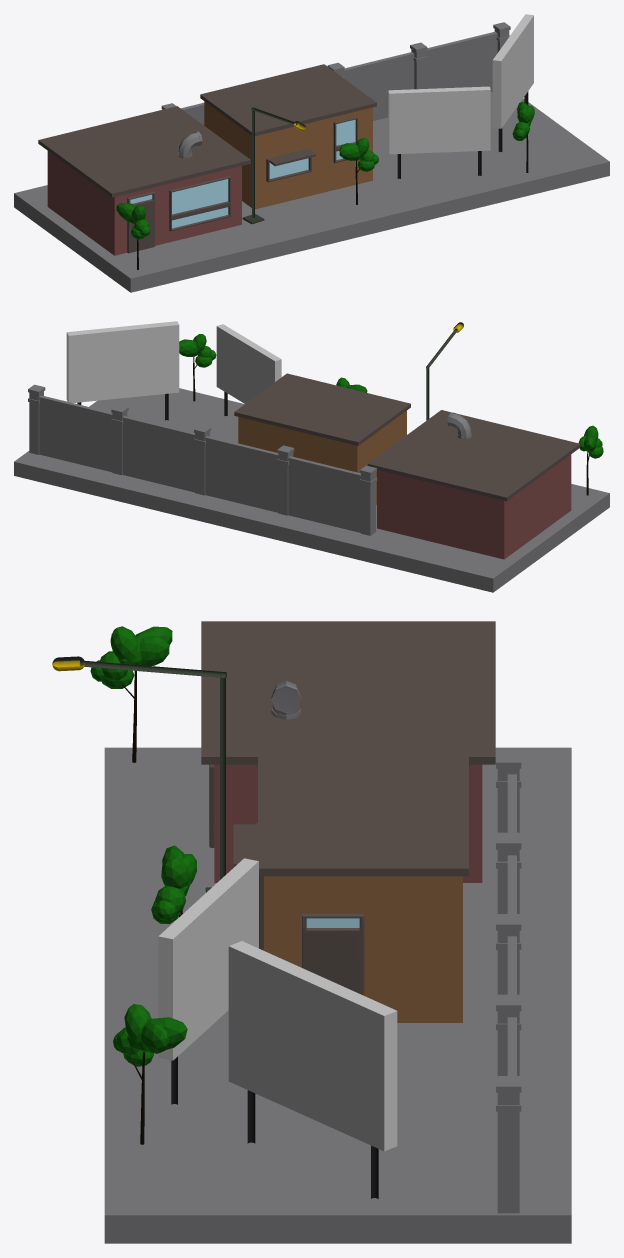
Rendered from Block_13.fbx.
The picture shows the model from 3 angles, top to bottom: view 1: azimuth 30°, elevation 25°; view 2: azimuth 150°, elevation 25°; view 3: azimuth 270°, elevation 25°; orthographic projection. The views are drawn at different scales.
Visible parts, largest first — view 1: polySurface446, polySurface448, polySurface443, Billboard1, Billboard2, polySurface458, polySurface457, polySurface449, polySurface442, polySurface460, Tree1__1_, Tree1 (+5 smaller); view 2: polySurface448, polySurface446, polySurface443, Billboard2, polySurface452, polySurface458, polySurface453, polySurface449, Billboard1, polySurface454, Tree1__2_, polySurface459 (+6 smaller); view 3: polySurface446, polySurface443, polySurface448, Billboard2, Billboard1, polySurface445, Tree1, polySurface456, Tree1__2_, StreetLight, Tree1__1_, polySurface459 (+5 smaller).
Boxes of the visible parts, x1,y1,x2,y2 form: polySurface446: (14,92,609,292); polySurface448: (38,106,250,255); polySurface443: (200,64,376,209); Billboard1: (388,86,490,178); Billboard2: (492,14,533,151); polySurface458: (426,31,497,92); polySurface457: (169,175,230,231); polySurface449: (343,52,414,120); polySurface442: (266,148,315,182); polySurface460: (127,191,154,253); Tree1__1_: (339,138,378,204); Tree1: (116,203,150,269); polySurface448: (367,410,580,559); polySurface446: (14,388,609,592); polySurface443: (234,373,410,504); Billboard2: (66,321,179,420); polySurface452: (205,436,278,512); polySurface458: (39,395,112,472); polySurface453: (288,456,360,532); polySurface449: (122,416,194,492); Billboard1: (216,324,281,415); polySurface454: (359,465,377,535); Tree1__2_: (179,334,216,401); polySurface459: (277,445,294,515); polySurface446: (104,747,571,1243); polySurface443: (258,747,468,1022); polySurface448: (201,621,495,882); Billboard2: (228,941,397,1198); Billboard1: (158,858,258,1104); polySurface445: (302,913,364,995); Tree1: (90,626,172,762); polySurface456: (496,1076,521,1213); Tree1__2_: (113,1004,187,1144); StreetLight: (52,656,226,892); Tree1__1_: (151,845,196,923); polySurface459: (496,832,521,913).
Bounding box in the file's own units: 710 × 194 × 333.
